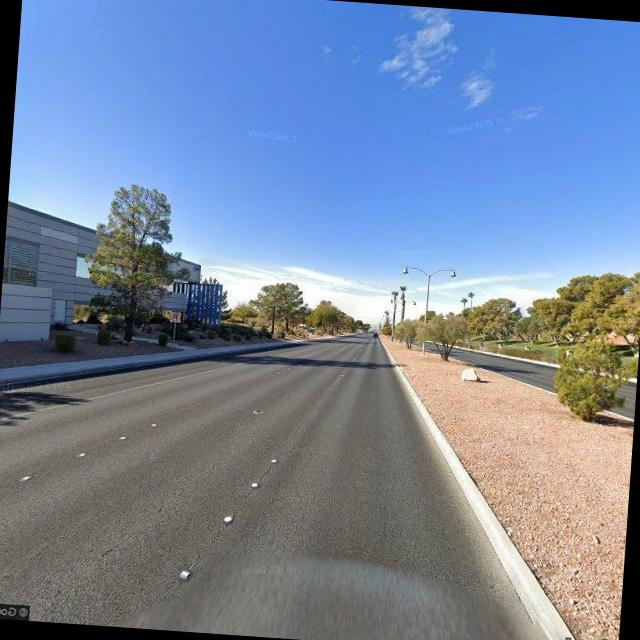pothole: (0, 502, 104, 608), (207, 439, 290, 550)
